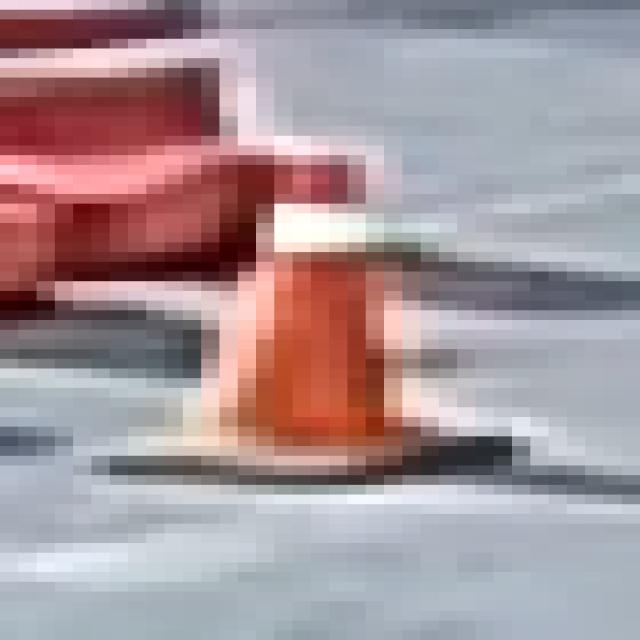small_cone: (178, 140, 498, 493)
